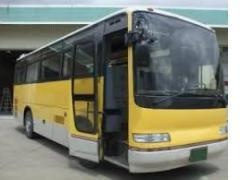bus: (12, 6, 227, 172)
